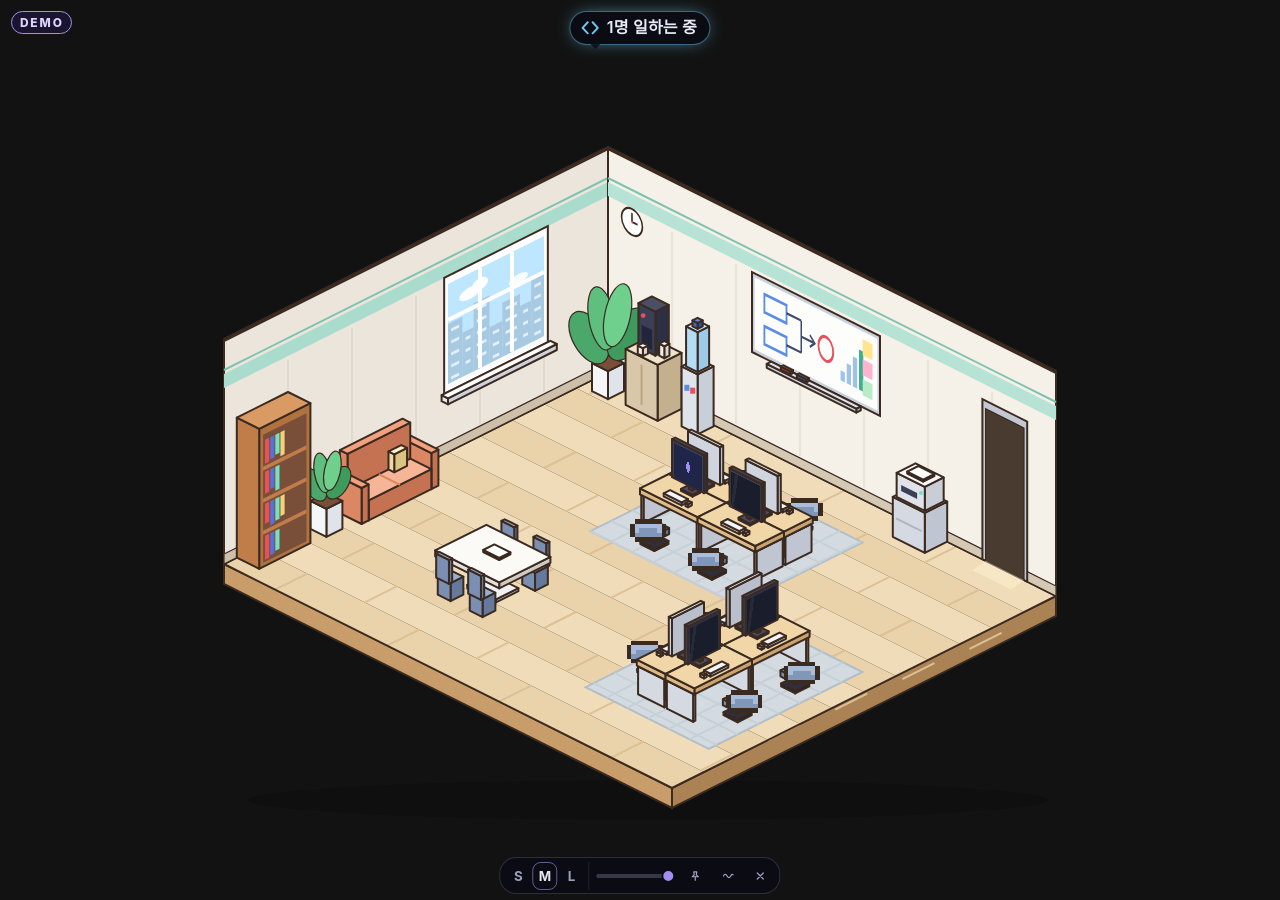
it: App activity panel: the summary opens it (FR-P1, FR-P3, ADR-025 §5) › opens from the office summary, lists recent activity and closes with Escape, returning focus
Click the button "1명 일하는 중" at (640, 28), box [569,11,711,44]
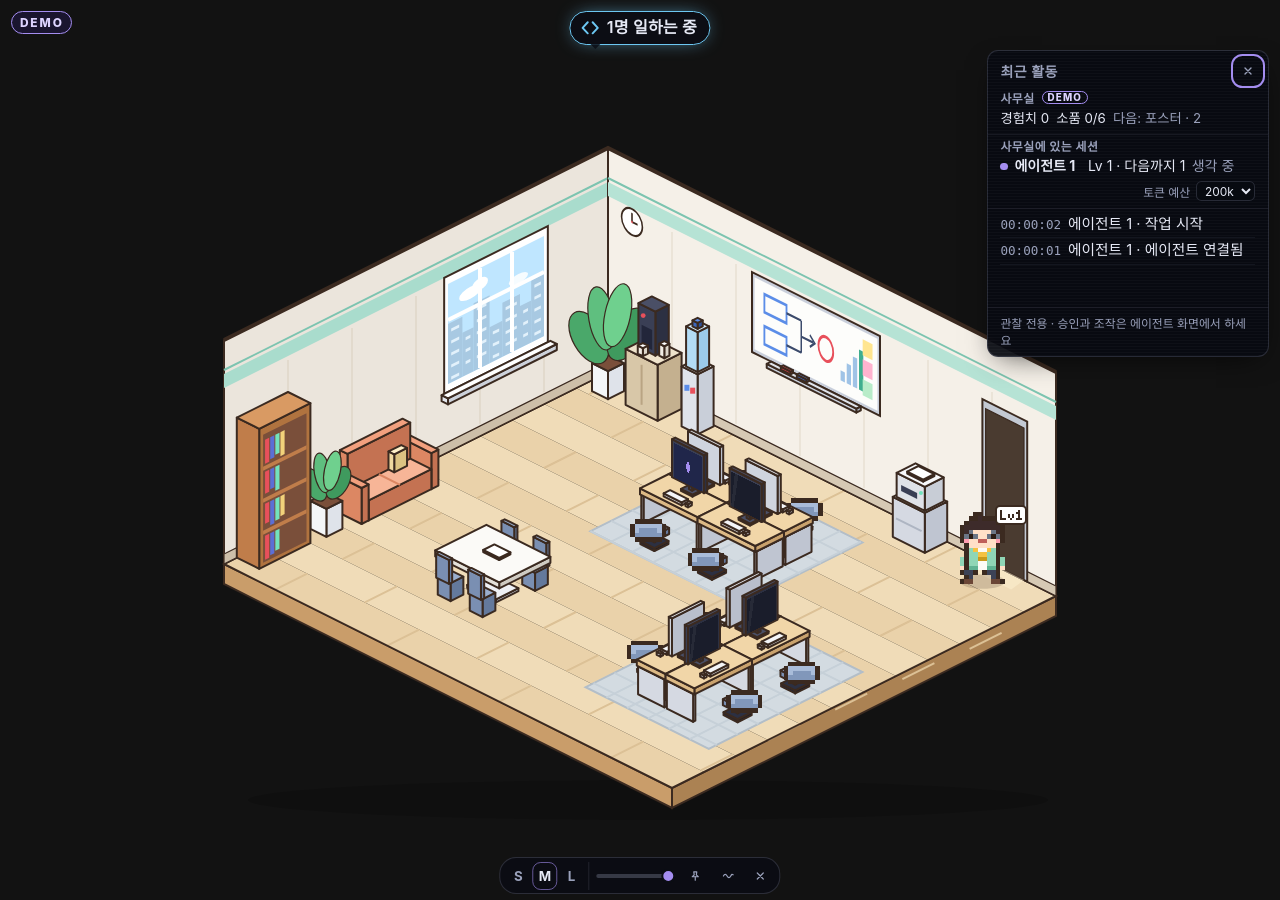
expect the button "1명 일하는 중" is expanded: met, box [569,11,711,44]
expect the dialog "최근 활동" shows "에이전트 1 · 작업 시작": met, box [1068,215,1203,233]
expect the dialog "최근 활동" shows "에이전트 1 · 에이전트 연결됨": met, box [1068,242,1244,260]
Press Escape
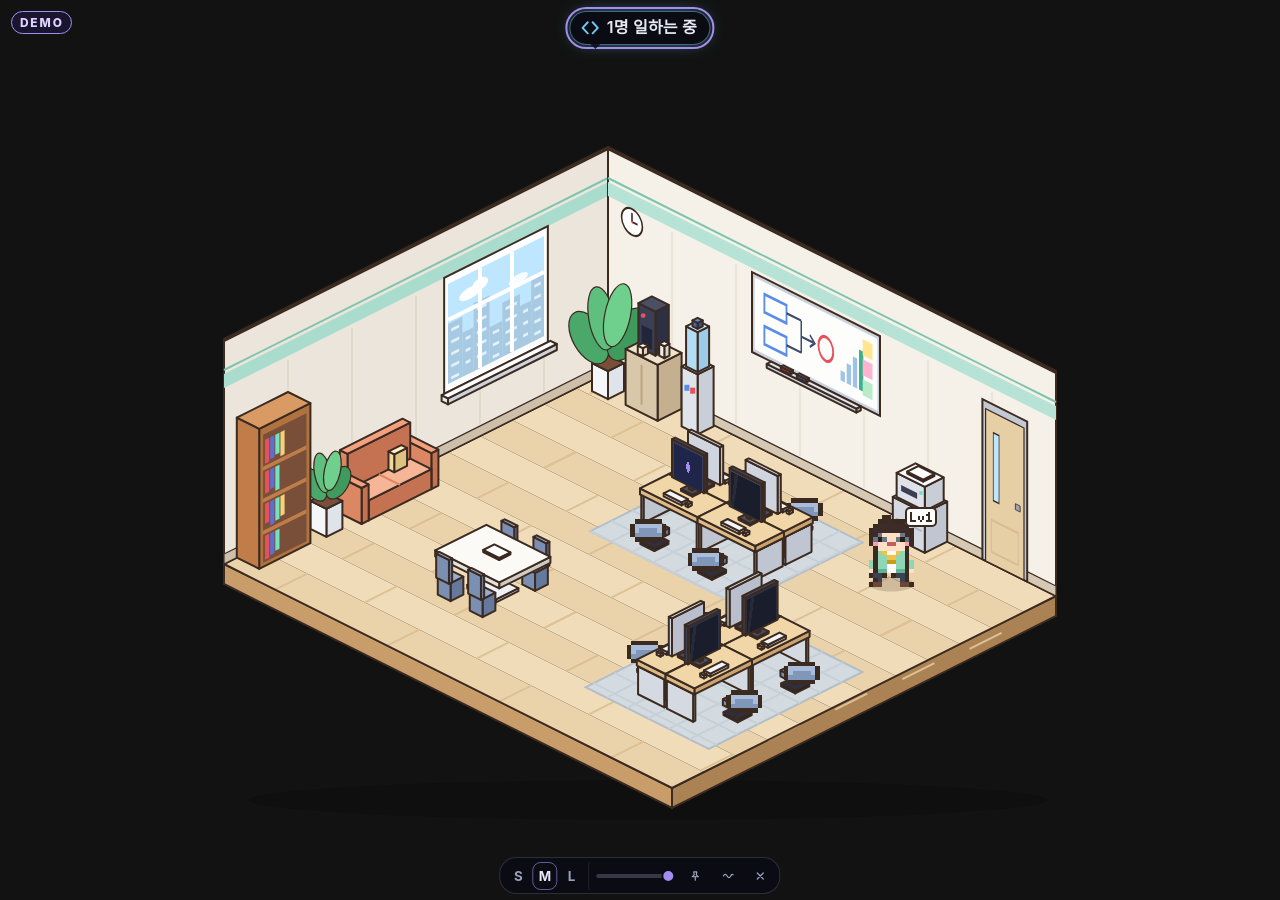
expect the dialog is gone: met
expect the button "1명 일하는 중" is collapsed: met, box [569,11,711,44]
